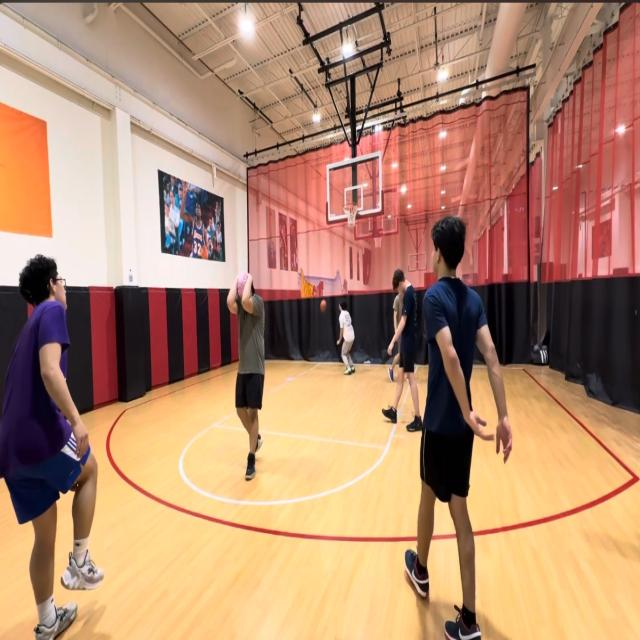Basketball: (320, 300, 327, 312)
Basketball Rim: (342, 203, 358, 226)
